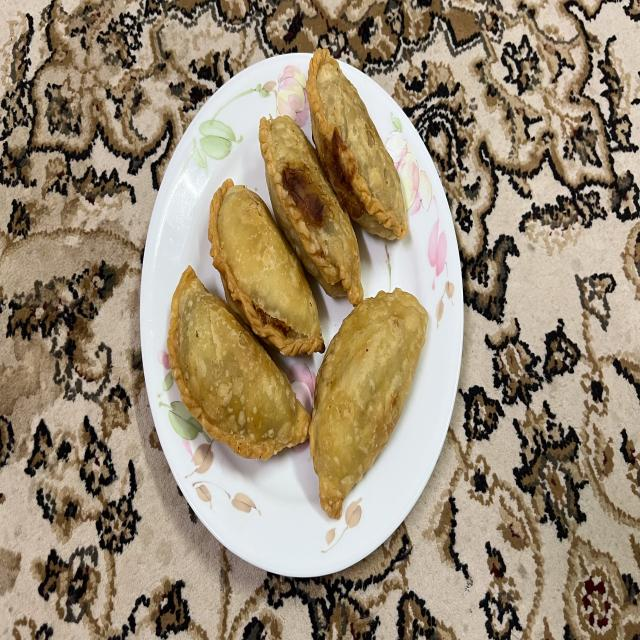karipap: (309, 289, 429, 518), (168, 267, 310, 460), (209, 180, 325, 356), (306, 49, 408, 240), (259, 116, 362, 304)
